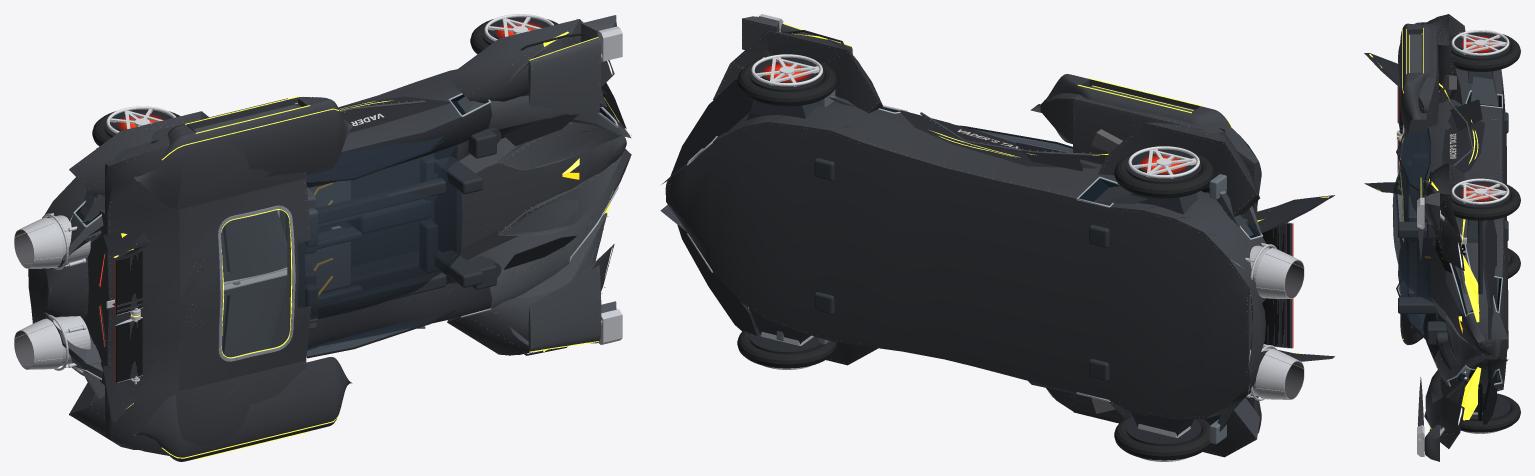
The model's file is phantom-a10-visual.glb.before-wheel-adjustment.glb.
3 renders of one model, left to right at view 1: azimuth 30°, elevation 25°; view 2: azimuth 150°, elevation 25°; view 3: azimuth 270°, elevation 25°, orthographic. The views are drawn at different scales.
Visible parts, largest first — view 1: PHANTOM_A8_INTEGRATED_DUCTED_FACETED_CFRP_HULL, VTX_VISUAL_WING_CASSETTE_COWLS, A10_SLEEVE_CARRY_THROUGH_BOX, PHANTOM_FRONT_RIGHT_WIDEBODY_ANGULAR_FENDER, A10_CANARD_R_ALL_MOVING_BLADE, A10_CANARD_L_ALL_MOVING_BLADE, A10_WING_L_PANEL_CFRP_TORSION_BOX, TUB_001_CFRP_NOMEX_SANDWICH_FLOOR, A10_WING_R_PANEL_CFRP_TORSION_BOX, PHANTOM_FRONT_LEFT_WIDEBODY_ANGULAR_FENDER, PHANTOM_LEFT_SPEAR_BONNET_RIDGE, VTX_VISUAL_DRS_CARBON_BLADES (+29 smaller); view 2: PHANTOM_A8_INTEGRATED_DUCTED_FACETED_CFRP_HULL, PHANTOM_REAR_RIGHT_WIDEBODY_ANGULAR_FENDER, PHANTOM_FRONT_RIGHT_WIDEBODY_ANGULAR_FENDER, VTX_VISUAL_WING_CASSETTE_COWLS, PHANTOM_RIGHT_RAPTOR_NOSE_SPLITTER, PHANTOM_RIGHT_BLACK_INVERTED_SPEAR_DOOR, VTX_VISUAL_DRS_CARBON_BLADES, WHEEL_FR_CLOSED_TYRE, WHEEL_RR_CLOSED_TYRE, WHEEL_RL_CLOSED_TYRE, PHANTOM_REAR_LEFT_WIDEBODY_ANGULAR_FENDER, PHANTOM_LEFT_RAPTOR_NOSE_SPLITTER (+14 smaller); view 3: PHANTOM_A8_INTEGRATED_DUCTED_FACETED_CFRP_HULL, VTX_VISUAL_WING_CASSETTE_COWLS, PHANTOM_FRONT_RIGHT_WIDEBODY_ANGULAR_FENDER, PHANTOM_FRONT_LEFT_WIDEBODY_ANGULAR_FENDER, PHANTOM_RIGHT_BLACK_INVERTED_SPEAR_DOOR, PHANTOM_RIGHT_TRIANGULAR_COUPÉ_SIDEGLASS, PHANTOM_REAR_RIGHT_WIDEBODY_ANGULAR_FENDER, PHANTOM_RIGHT_RAPTOR_NOSE_SPLITTER, WHEEL_RR_CLOSED_TYRE, WHEEL_FR_CLOSED_TYRE, WHEEL_FL_CLOSED_TYRE, PHANTOM_LEFT_SPEAR_BONNET_RIDGE (+42 smaller).
Boxes of the visible parts, x1,y1,x2,y2 form: PHANTOM_A8_INTEGRATED_DUCTED_FACETED_CFRP_HULL: (28,69,631,455); VTX_VISUAL_WING_CASSETTE_COWLS: (133,97,352,461); A10_SLEEVE_CARRY_THROUGH_BOX: (221,209,287,356); PHANTOM_FRONT_RIGHT_WIDEBODY_ANGULAR_FENDER: (447,19,614,103); A10_CANARD_R_ALL_MOVING_BLADE: (528,37,601,113); A10_CANARD_L_ALL_MOVING_BLADE: (528,265,601,351); A10_WING_L_PANEL_CFRP_TORSION_BOX: (222,275,287,358); TUB_001_CFRP_NOMEX_SANDWICH_FLOOR: (318,153,433,266); A10_WING_R_PANEL_CFRP_TORSION_BOX: (223,210,287,281); PHANTOM_FRONT_LEFT_WIDEBODY_ANGULAR_FENDER: (447,244,614,355); PHANTOM_LEFT_SPEAR_BONNET_RIDGE: (498,156,621,235); VTX_VISUAL_DRS_CARBON_BLADES: (115,251,142,383); PHANTOM_A8_INTEGRATED_DUCTED_FACETED_CFRP_HULL: (660,85,1276,433); PHANTOM_REAR_RIGHT_WIDEBODY_ANGULAR_FENDER: (1098,122,1259,219); PHANTOM_FRONT_RIGHT_WIDEBODY_ANGULAR_FENDER: (713,30,882,127); VTX_VISUAL_WING_CASSETTE_COWLS: (1030,74,1241,151); PHANTOM_RIGHT_RAPTOR_NOSE_SPLITTER: (670,79,753,176); PHANTOM_RIGHT_BLACK_INVERTED_SPEAR_DOOR: (900,110,1096,168); VTX_VISUAL_DRS_CARBON_BLADES: (1262,222,1293,347); WHEEL_FR_CLOSED_TYRE: (737,57,837,106); WHEEL_RR_CLOSED_TYRE: (1114,149,1214,198); WHEEL_RL_CLOSED_TYRE: (1114,415,1211,460); PHANTOM_REAR_LEFT_WIDEBODY_ANGULAR_FENDER: (1109,398,1260,457); PHANTOM_LEFT_RAPTOR_NOSE_SPLITTER: (677,225,758,335); PHANTOM_A8_INTEGRATED_DUCTED_FACETED_CFRP_HULL: (1392,22,1508,393); VTX_VISUAL_WING_CASSETTE_COWLS: (1400,23,1432,344); PHANTOM_FRONT_RIGHT_WIDEBODY_ANGULAR_FENDER: (1425,163,1465,270); PHANTOM_FRONT_LEFT_WIDEBODY_ANGULAR_FENDER: (1425,366,1464,448); PHANTOM_RIGHT_BLACK_INVERTED_SPEAR_DOOR: (1442,105,1484,173); PHANTOM_RIGHT_TRIANGULAR_COUPÉ_SIDEGLASS: (1398,129,1430,190); PHANTOM_REAR_RIGHT_WIDEBODY_ANGULAR_FENDER: (1426,14,1465,104); PHANTOM_RIGHT_RAPTOR_NOSE_SPLITTER: (1482,220,1496,339); WHEEL_RR_CLOSED_TYRE: (1449,32,1520,71); WHEEL_FR_CLOSED_TYRE: (1446,181,1520,220); WHEEL_FL_CLOSED_TYRE: (1461,393,1520,432); PHANTOM_LEFT_SPEAR_BONNET_RIDGE: (1445,316,1484,363).
Bounding box in the file's own units: 5.09 × 2.6 × 1.4.
43 materials, 5 textured.
